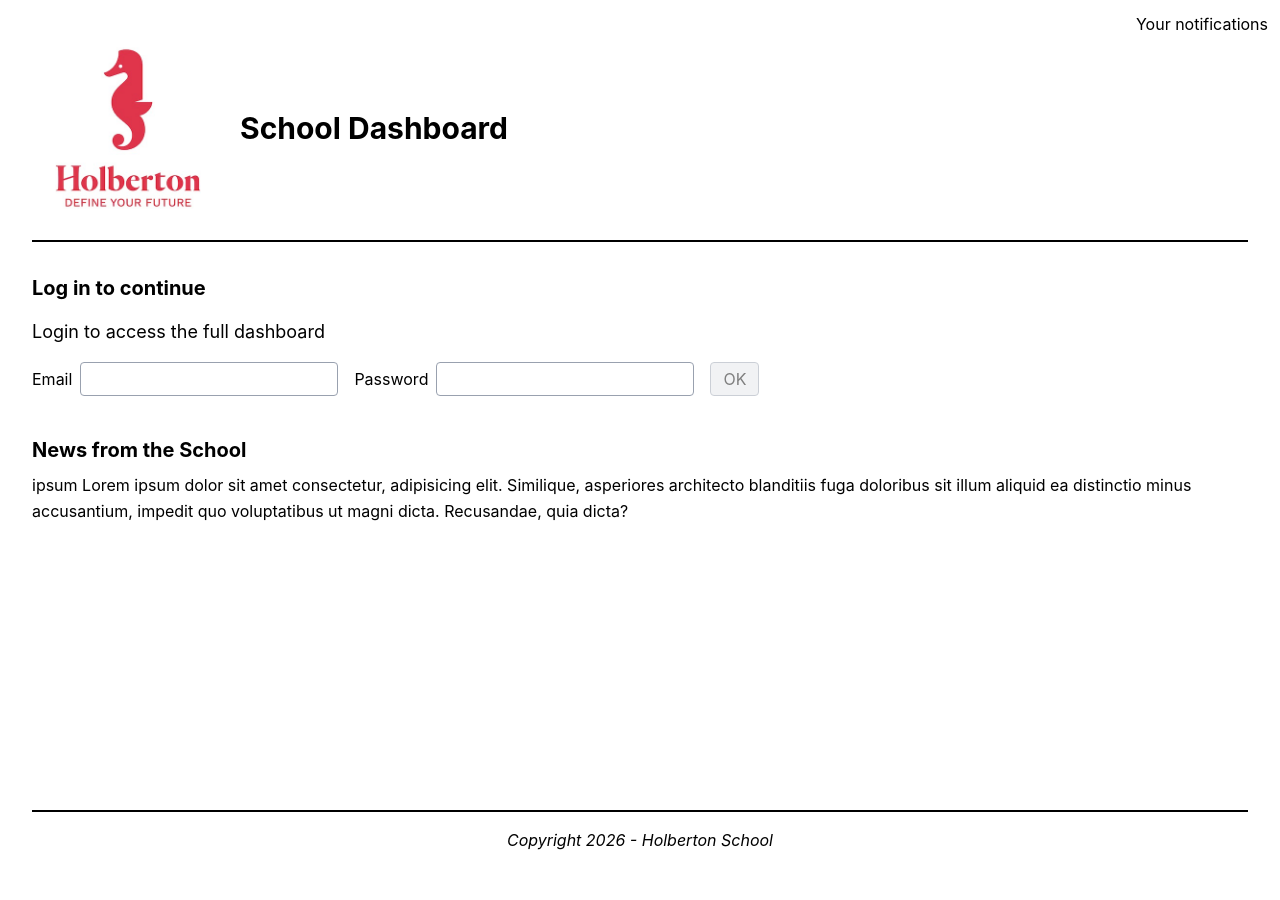
Test case: App component › markNotificationAsRead works as expected: logs to console and removes notification from state
Click the text "Your notifications" at (1202, 24), box [1136,12,1268,36]
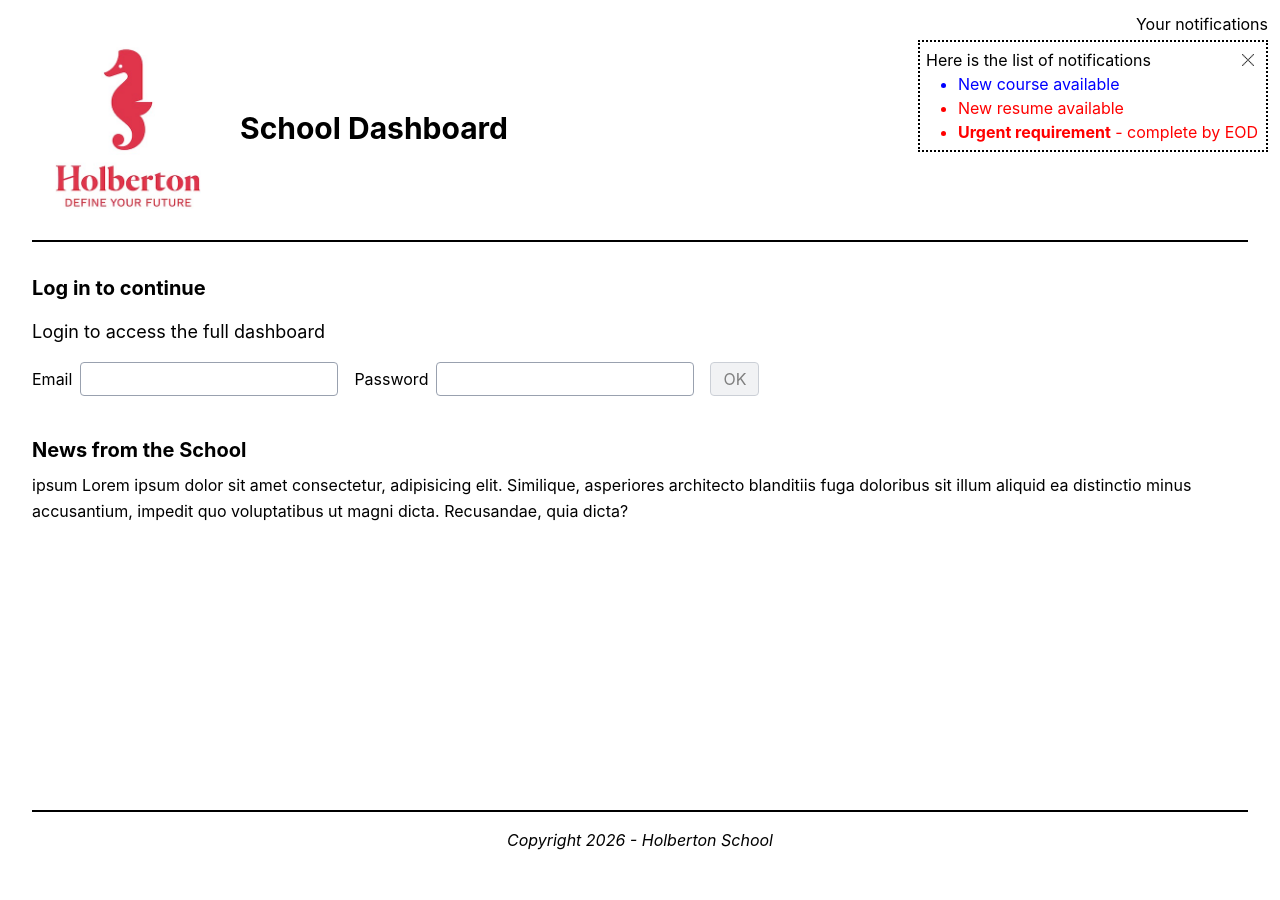
expect the list item "New course available" is shown: met
Click the list item "New course available" at (1039, 84), box [958,74,1120,94]
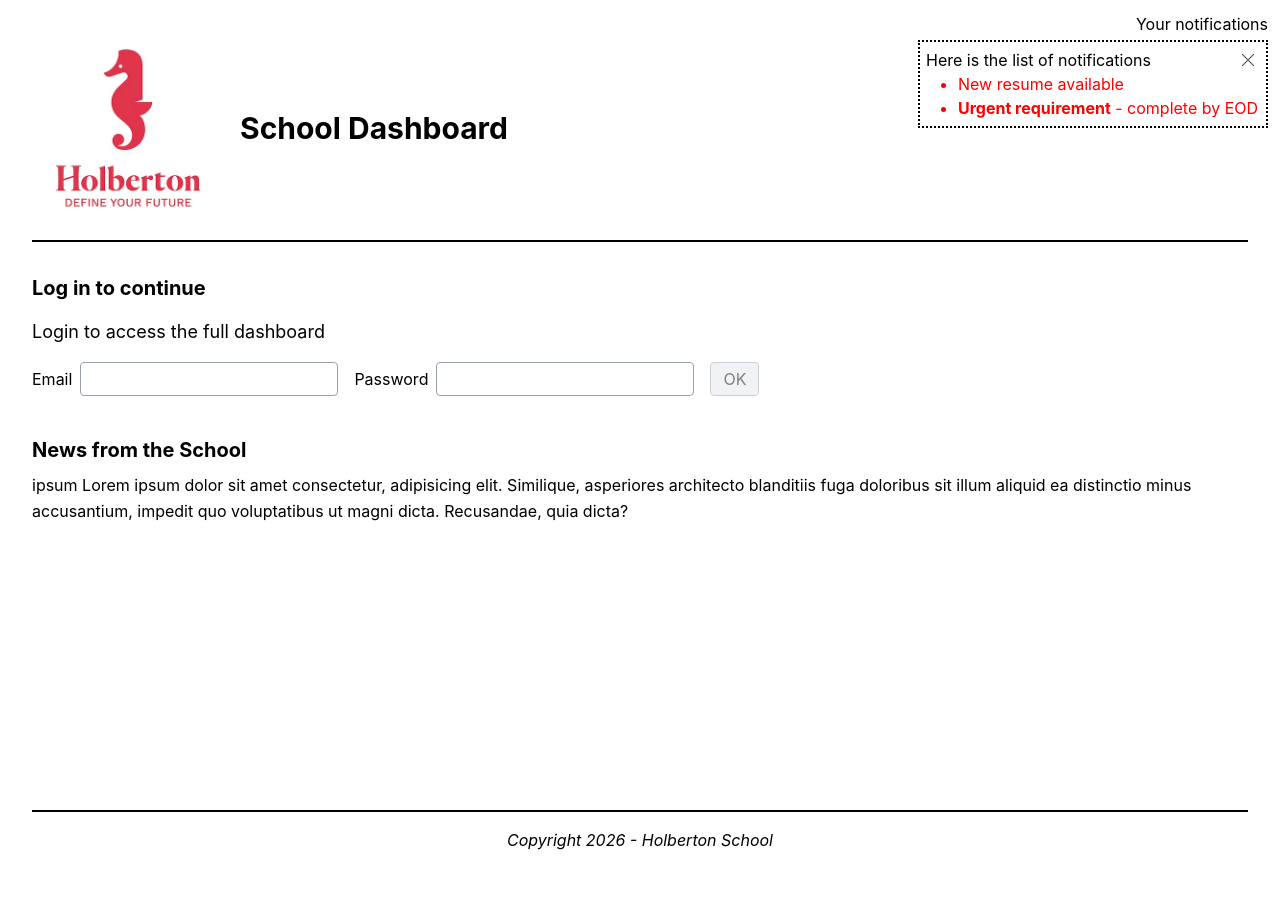
expect the list item "New course available" is gone: met
